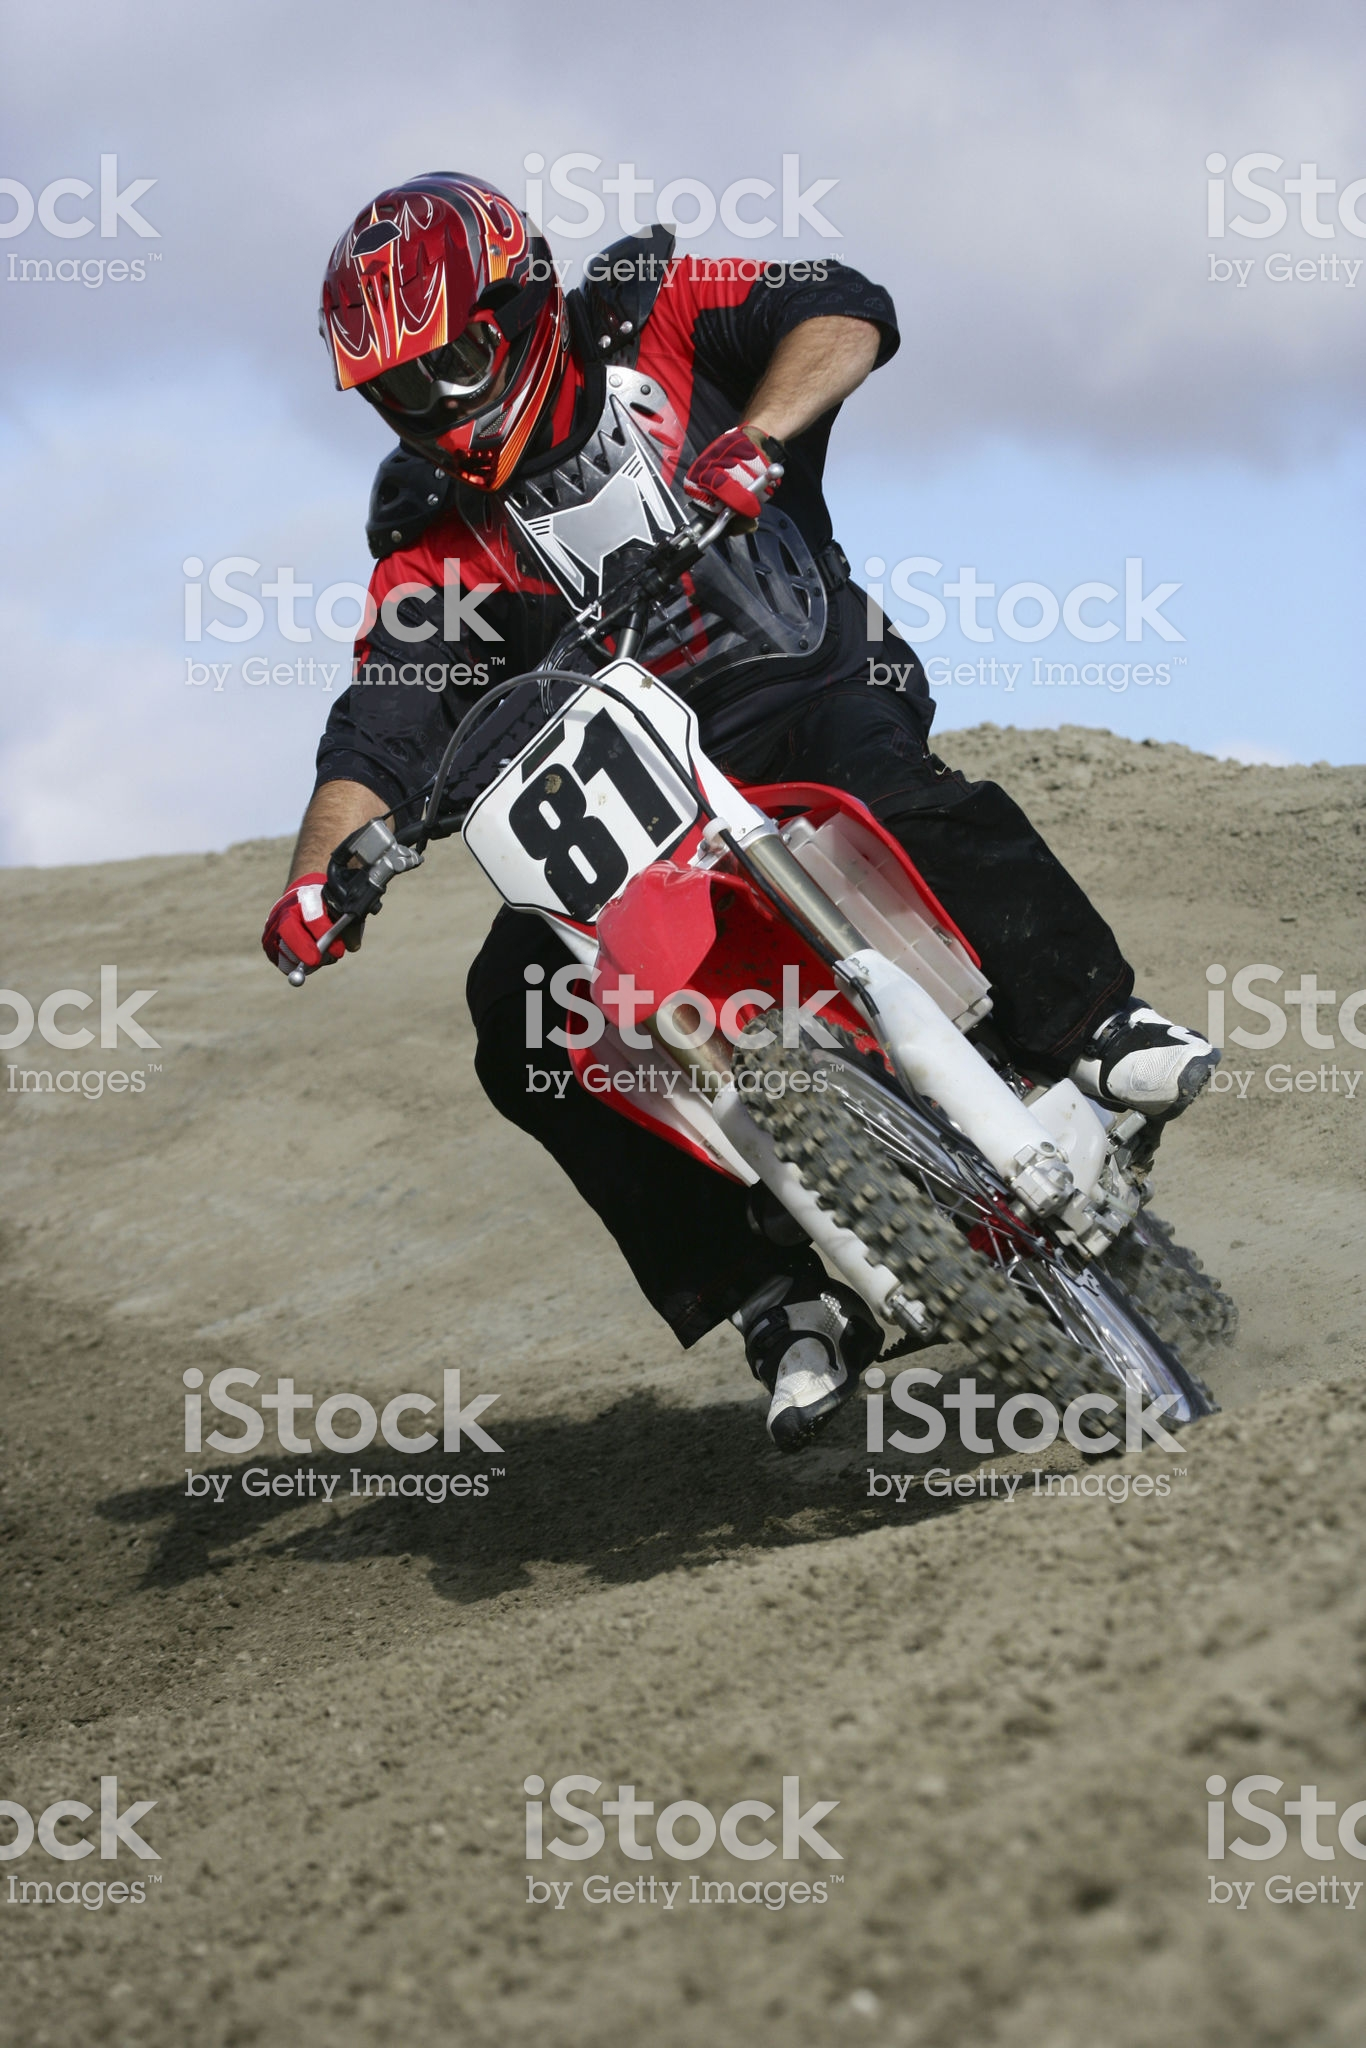helmet: (258, 149, 592, 500)
